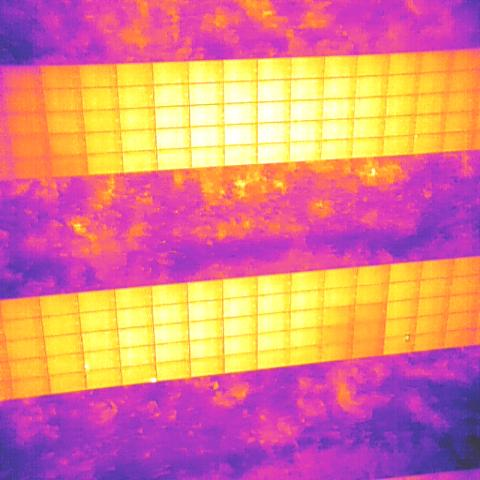fault: (84, 361, 90, 372), (150, 376, 157, 383), (405, 334, 410, 342)
